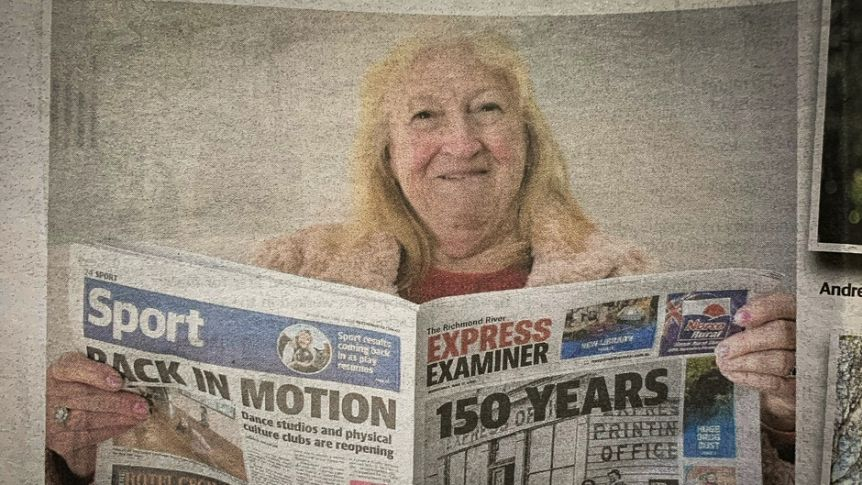news_paper: (60, 204, 793, 485)
